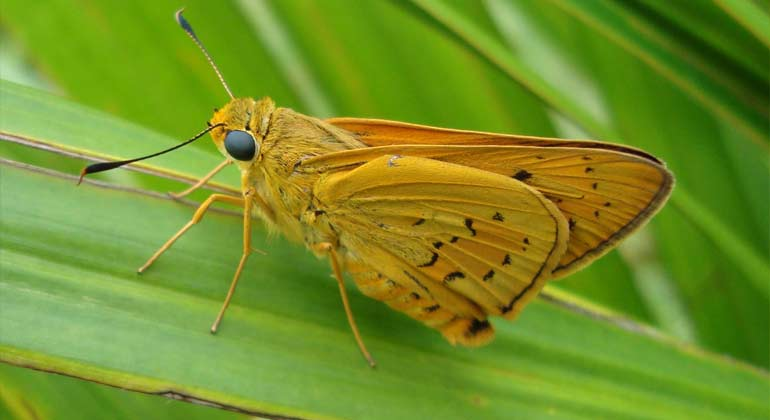Rice_skipper: (194, 86, 686, 352)
